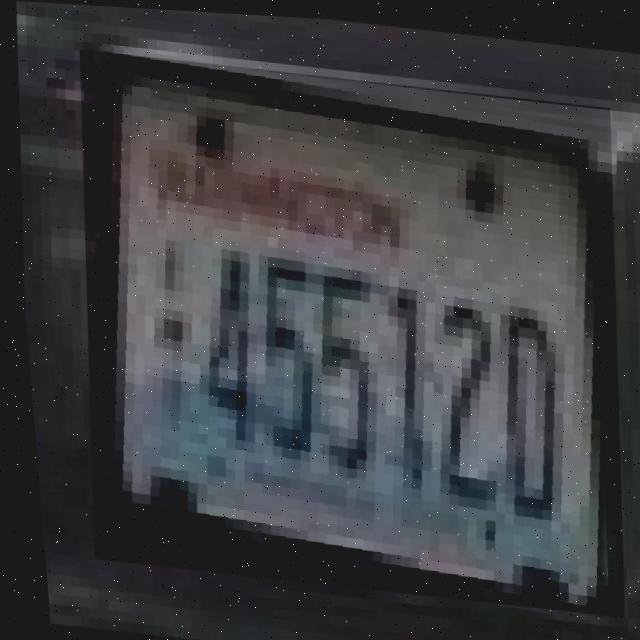LicensePlate: (52, 47, 640, 612)
